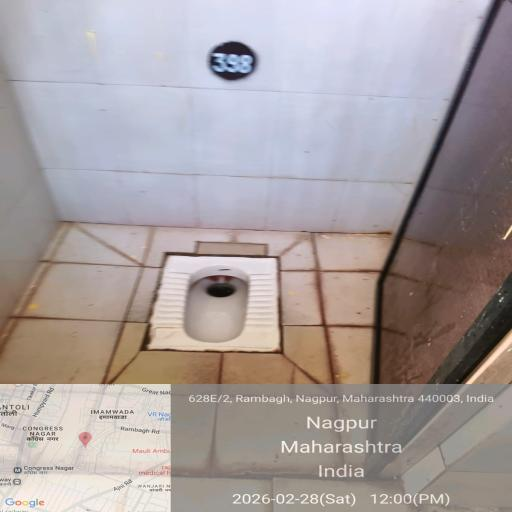clean_floor: (20, 14, 428, 215), (406, 200, 508, 317)
partial_dirty_floor: (29, 226, 389, 402)
partial_dirty_indian: (141, 252, 287, 351)
